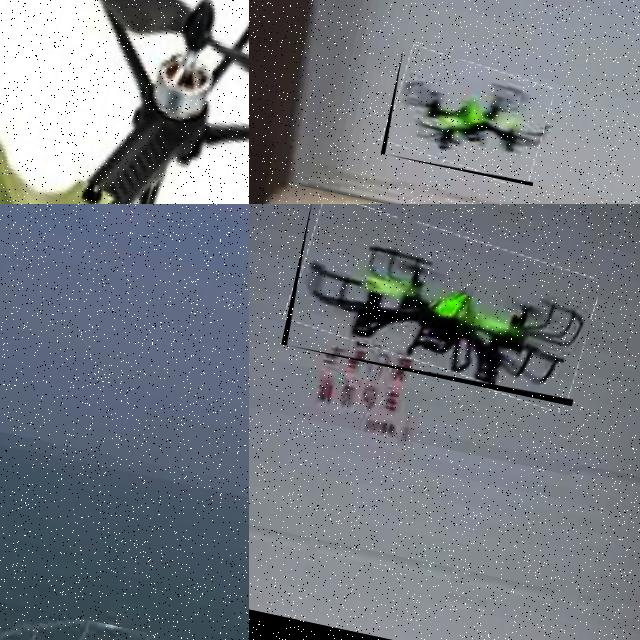drone: (281, 204, 602, 406), (0, 0, 249, 204), (380, 46, 554, 186)
